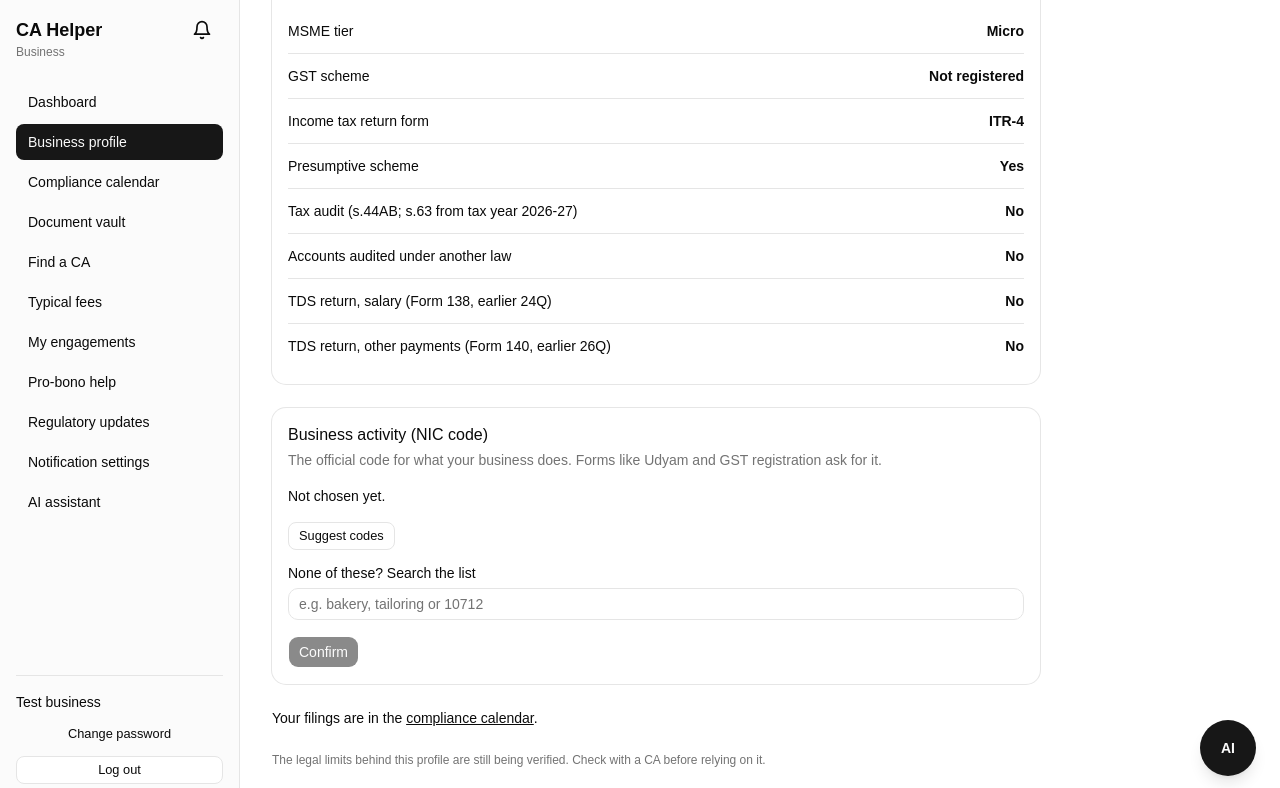
NIC code card › says when the picks are keyword matches only
(page scrolled)
Click the button "Suggest codes" at {"x": 341, "y": 536}, box top-left (288, 522), bottom-right (395, 550)
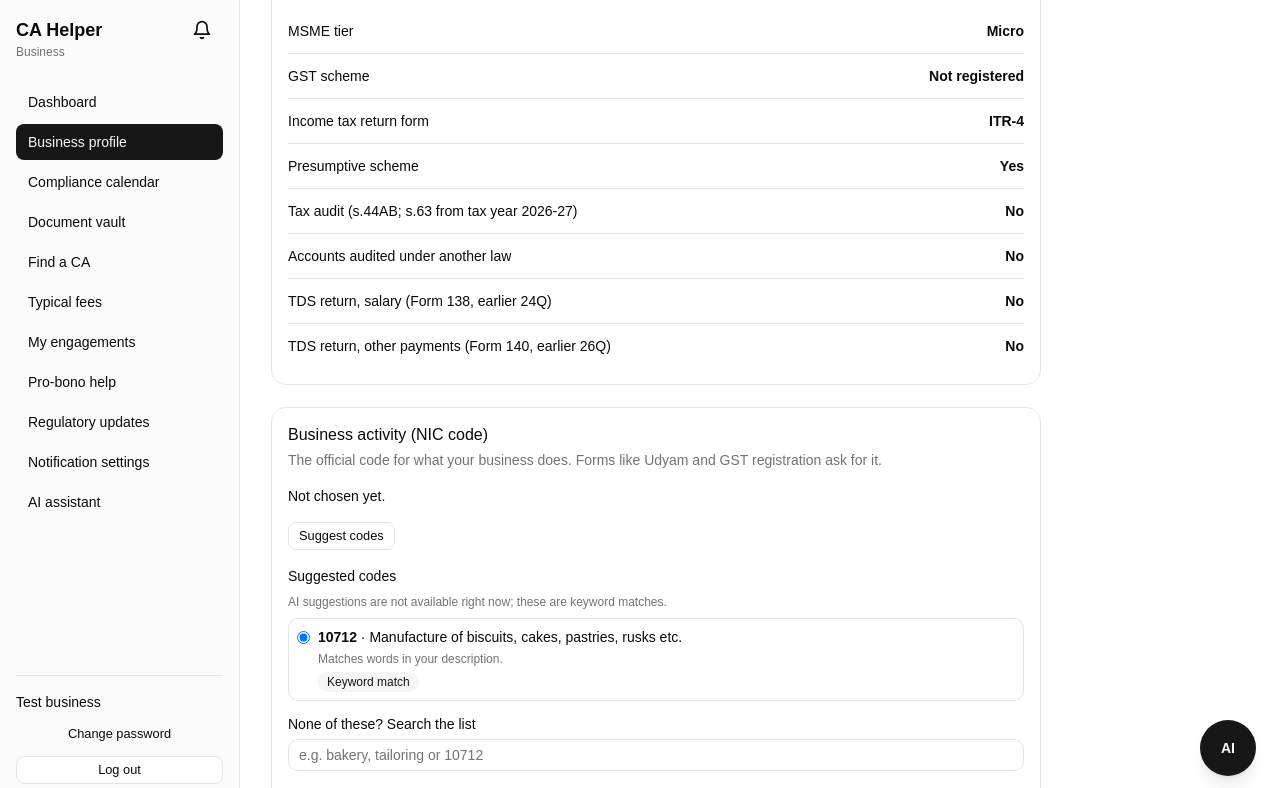
Expected: the text "AI suggestions are not available right now; these are keyword matches." is shown, top-left (288, 595), bottom-right (667, 609)
Expected: the text "Keyword match" is shown, top-left (318, 672), bottom-right (419, 692)
